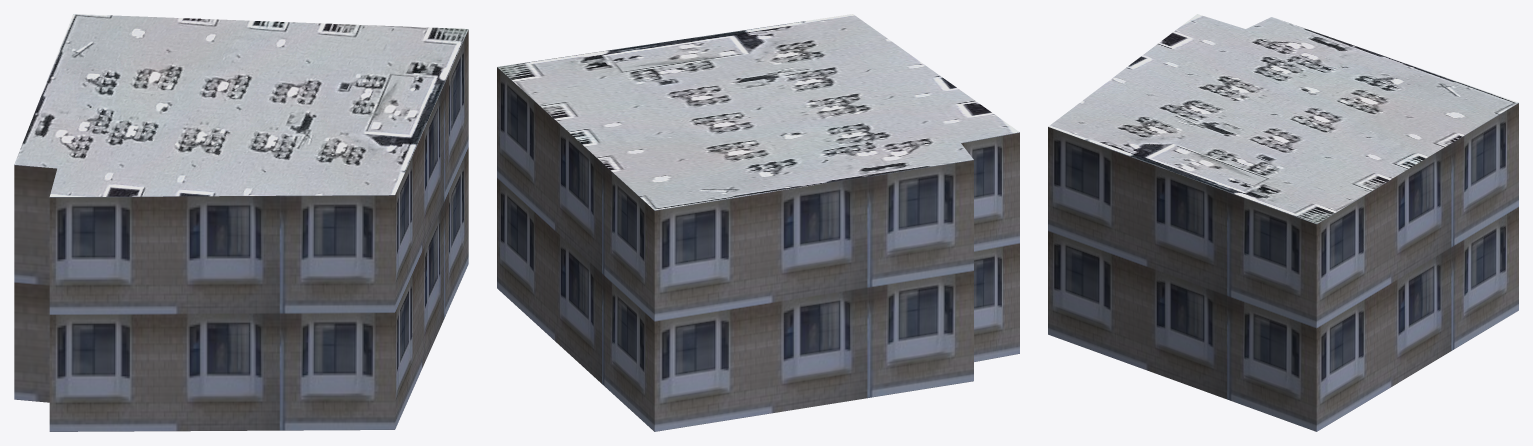
Rendered from ResTex__2773.fbx.
3 renders of one model, left to right at view 1: azimuth 30°, elevation 25°; view 2: azimuth 150°, elevation 25°; view 3: azimuth 270°, elevation 25°, orthographic. The views are drawn at different scales.
Visible parts, largest first — view 1: CityEngineMaterial_3_m, CityEngineMaterial_2_m; view 2: CityEngineMaterial_3_m, CityEngineMaterial_2_m; view 3: CityEngineMaterial_3_m, CityEngineMaterial_2_m.
Boxes of the visible parts, x1,y1,x2,y2 form: CityEngineMaterial_3_m: (14,30,468,431); CityEngineMaterial_2_m: (14,14,468,196); CityEngineMaterial_3_m: (497,67,1019,431); CityEngineMaterial_2_m: (497,14,1019,210); CityEngineMaterial_3_m: (1048,103,1518,431); CityEngineMaterial_2_m: (1048,14,1518,223).
Size of the model in its own units: 13.01 by 6 by 12.32.
2 materials, 2 textured.
